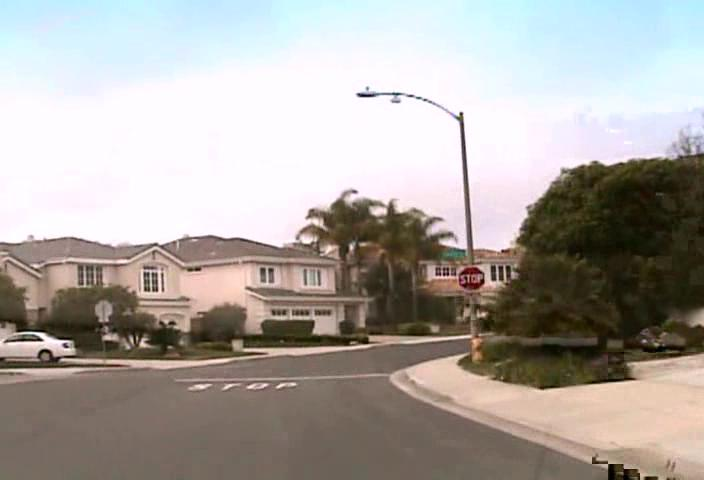stop: (458, 265, 485, 291)
